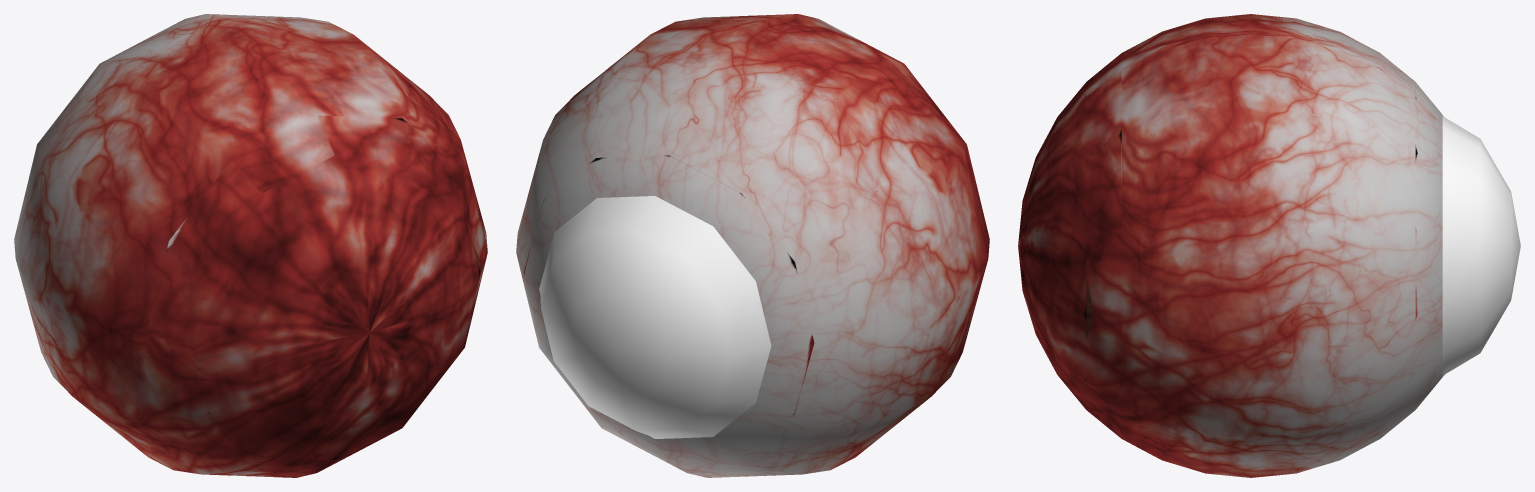
File: eyebAKED.glb
3 views of the same model, side by side, from view 1: azimuth 30°, elevation 25°; view 2: azimuth 150°, elevation 25°; view 3: azimuth 270°, elevation 25° (orthographic).
Parts seen in each view (by area): view 1: Sphere_Baked; view 2: Sphere_Baked, Sphere.002; view 3: Sphere_Baked, Sphere.002.
Part boxes in pixels (x1,y1,x2,y2): Sphere_Baked: (14,14,487,477); Sphere_Baked: (516,14,989,477); Sphere.002: (539,196,771,438); Sphere_Baked: (1018,14,1442,477); Sphere.002: (1442,115,1520,376).
Size of the model in its own units: 2 by 2 by 2.16.
2 materials, 1 textured.
